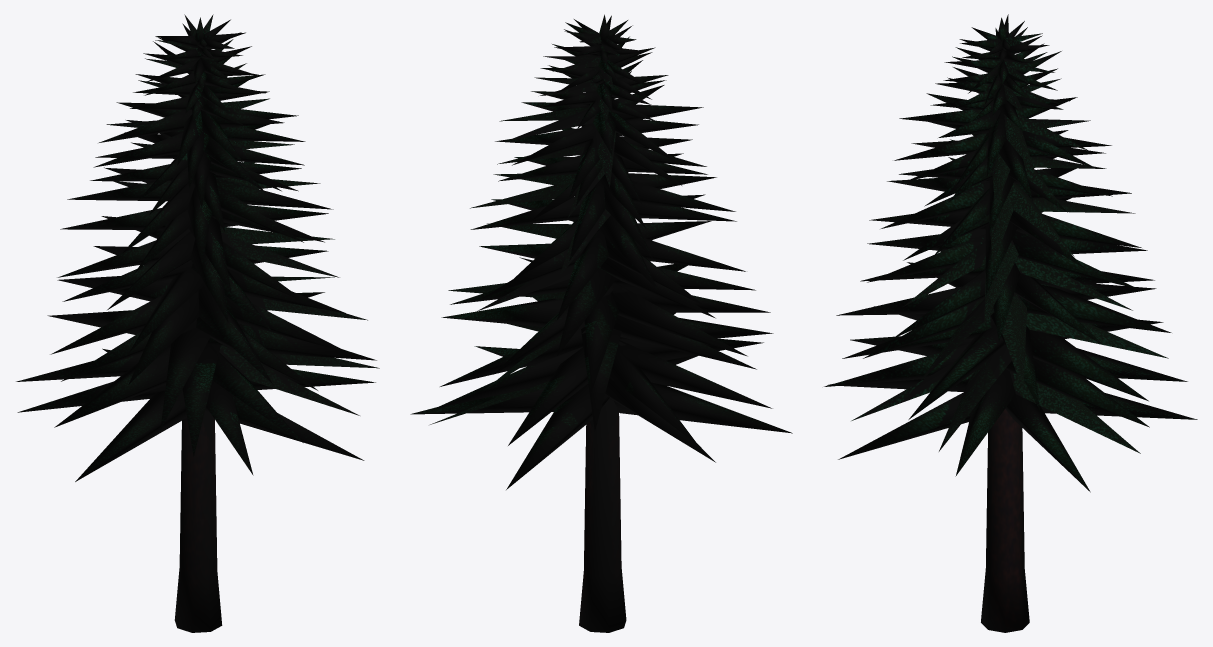
The model's file is tree.fbx.
3 renders of one model, left to right at view 1: azimuth 30°, elevation 25°; view 2: azimuth 150°, elevation 25°; view 3: azimuth 270°, elevation 25°, orthographic.
Visible parts, largest first — view 1: Cube; view 2: Cube; view 3: Cube.
Part boxes in pixels (<box>): Cube: <box>16,14,379,632</box>; Cube: <box>410,14,792,632</box>; Cube: <box>824,14,1197,632</box>.
Bounding box in the file's own units: 14.62 × 27.26 × 15.34.
2 materials, 2 textured.
